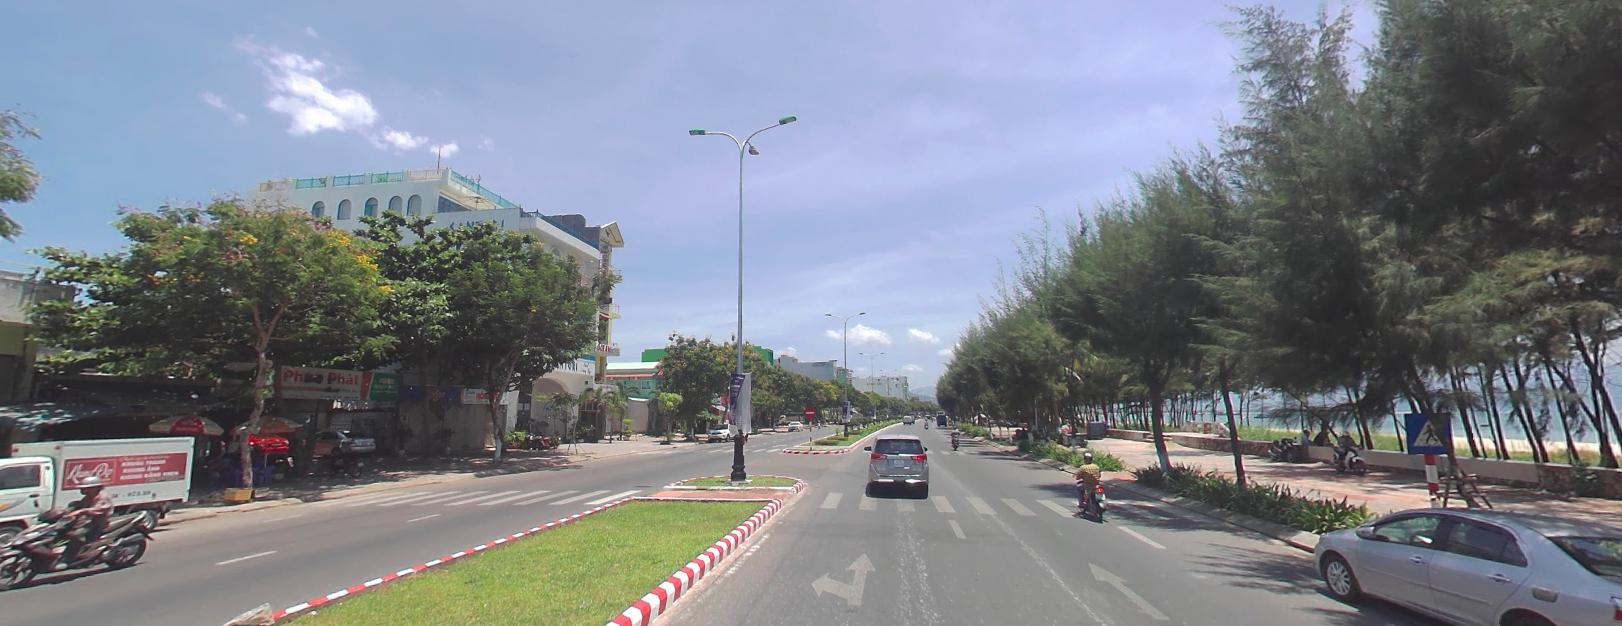Cam nguoc chieu: (803, 405, 814, 416)
